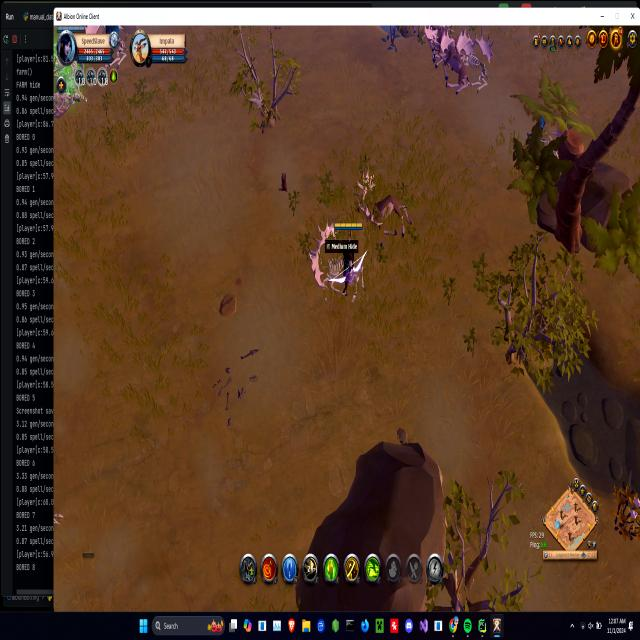hide: (611, 474, 640, 544)
mob: (428, 26, 471, 93), (360, 194, 412, 238)
red: (335, 220, 364, 282)
